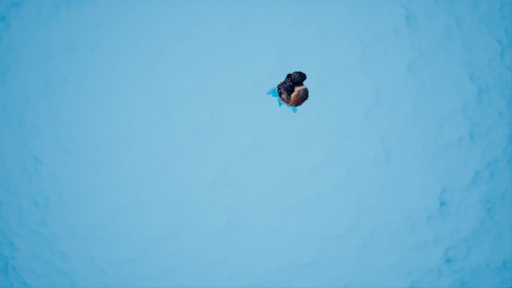person: (267, 70, 312, 116)
